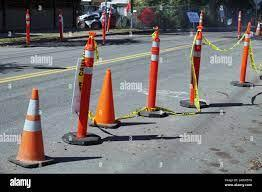car: (76, 12, 101, 30)
traffic cone: (62, 31, 102, 146), (8, 88, 55, 169), (179, 12, 209, 109), (138, 25, 169, 118), (90, 68, 121, 128), (231, 22, 256, 88), (180, 84, 208, 108), (255, 21, 262, 36), (246, 22, 252, 34)
